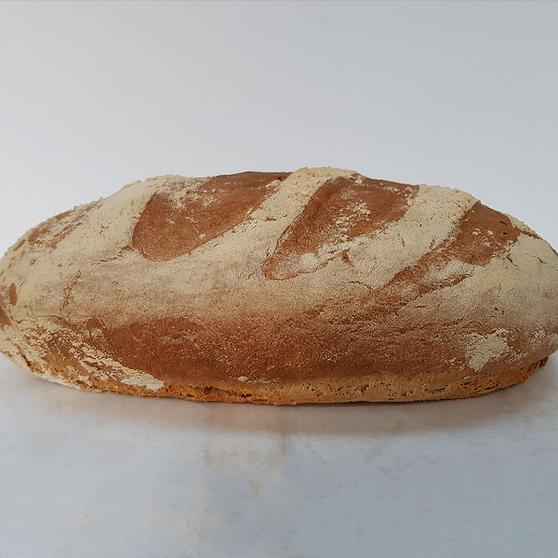white_bread: (1, 171, 557, 408)
